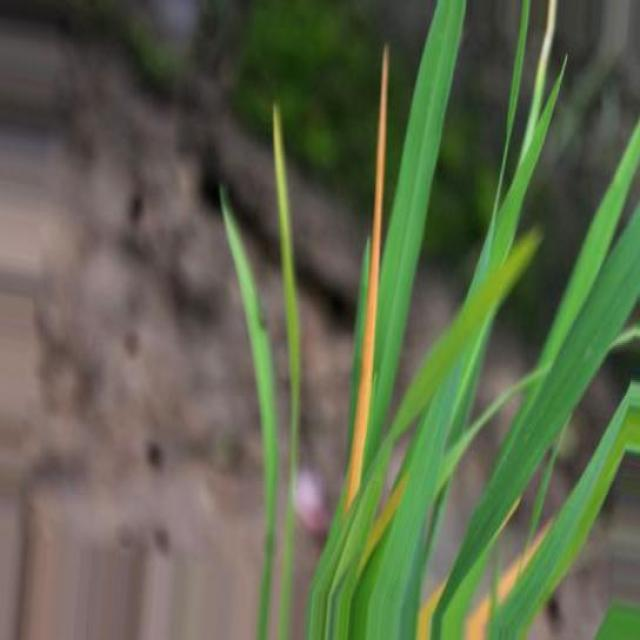Rice Tungro: (345, 43, 387, 508)
